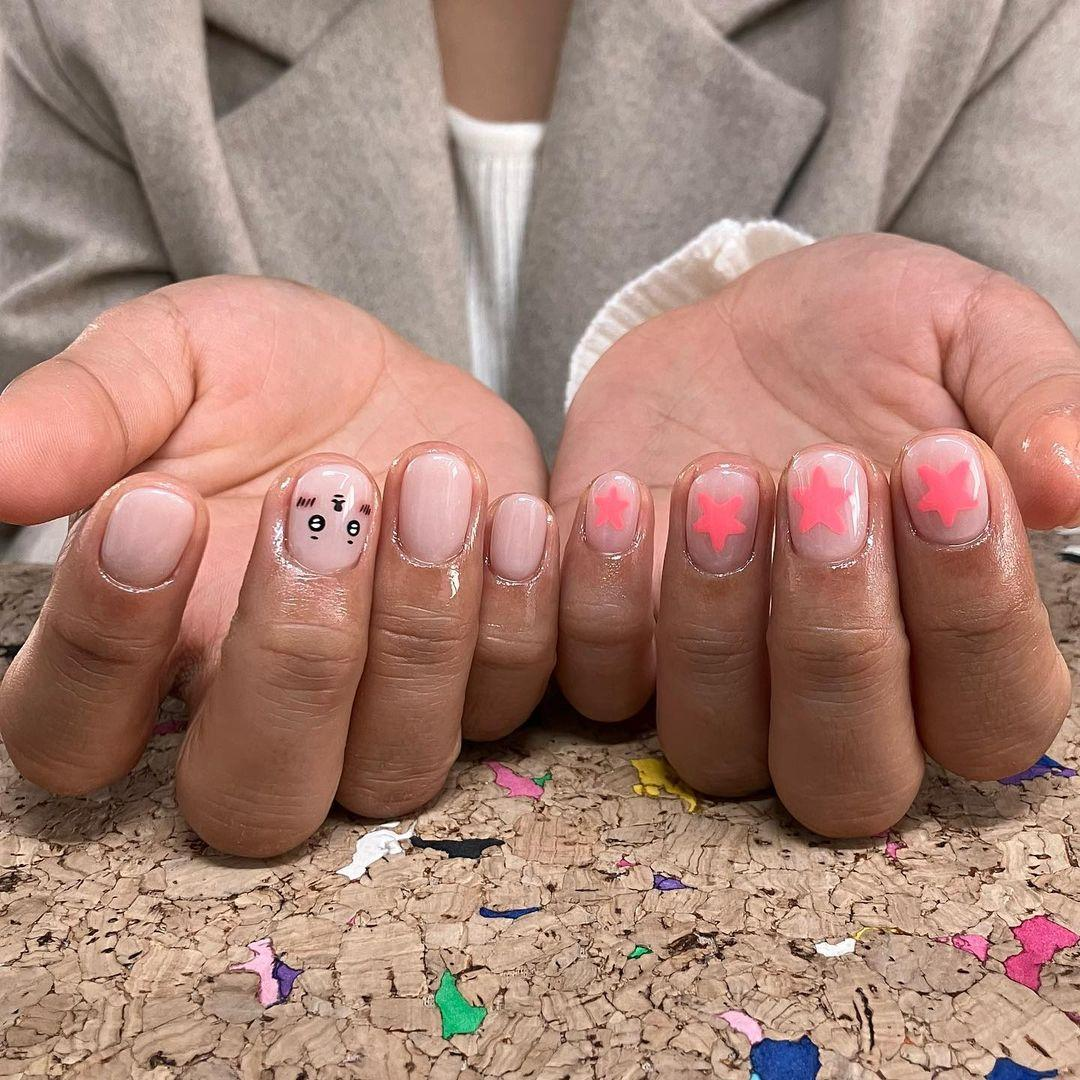nail: (173, 451, 381, 858), (765, 441, 925, 839), (335, 440, 488, 819), (653, 450, 775, 798), (556, 469, 656, 723), (461, 490, 560, 742), (898, 428, 990, 549), (783, 442, 872, 567), (96, 482, 196, 593), (487, 491, 552, 585), (581, 469, 641, 558)
